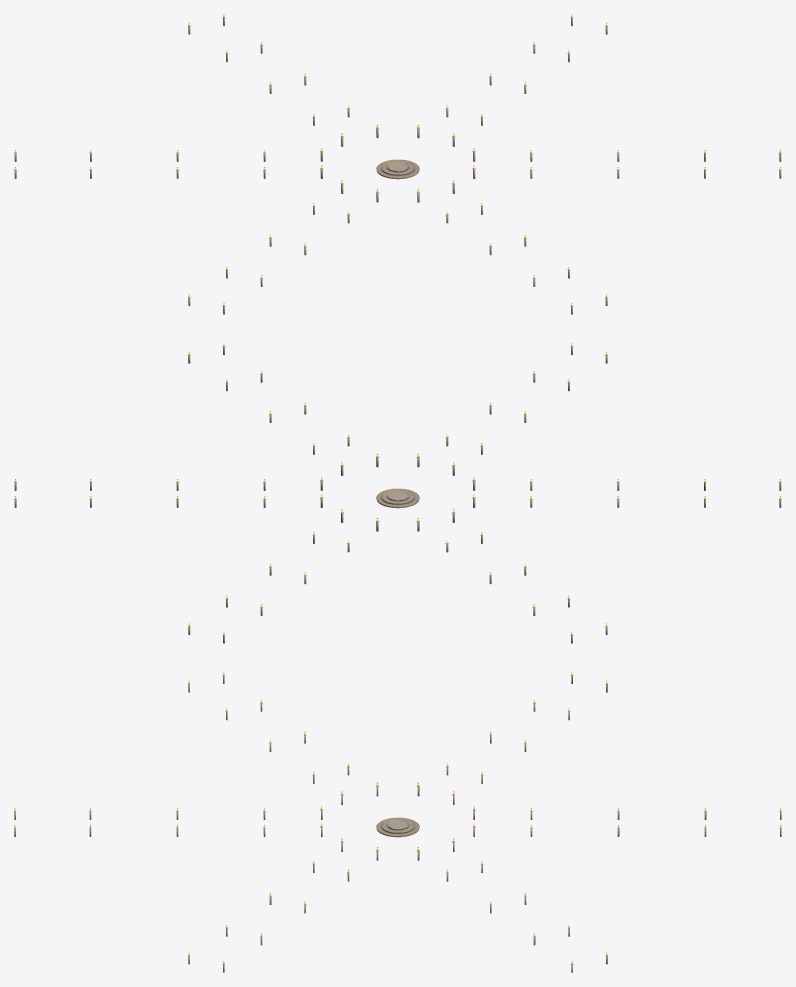
File: hub2_props.glb
3 views of the same model, one above another, from view 1: azimuth 30°, elevation 25°; view 2: azimuth 150°, elevation 25°; view 3: azimuth 270°, elevation 25° (orthographic).
Visible parts, largest first — view 1: hub2_props; view 2: hub2_props; view 3: hub2_props.
Part boxes in pixels (box(x1,y1,x2,y2)): hub2_props: box(14, 14, 781, 314); hub2_props: box(14, 343, 781, 643); hub2_props: box(14, 672, 781, 972).
Bounding box in the file's own units: 236 × 5.03 × 265.
1 material, 1 textured.
